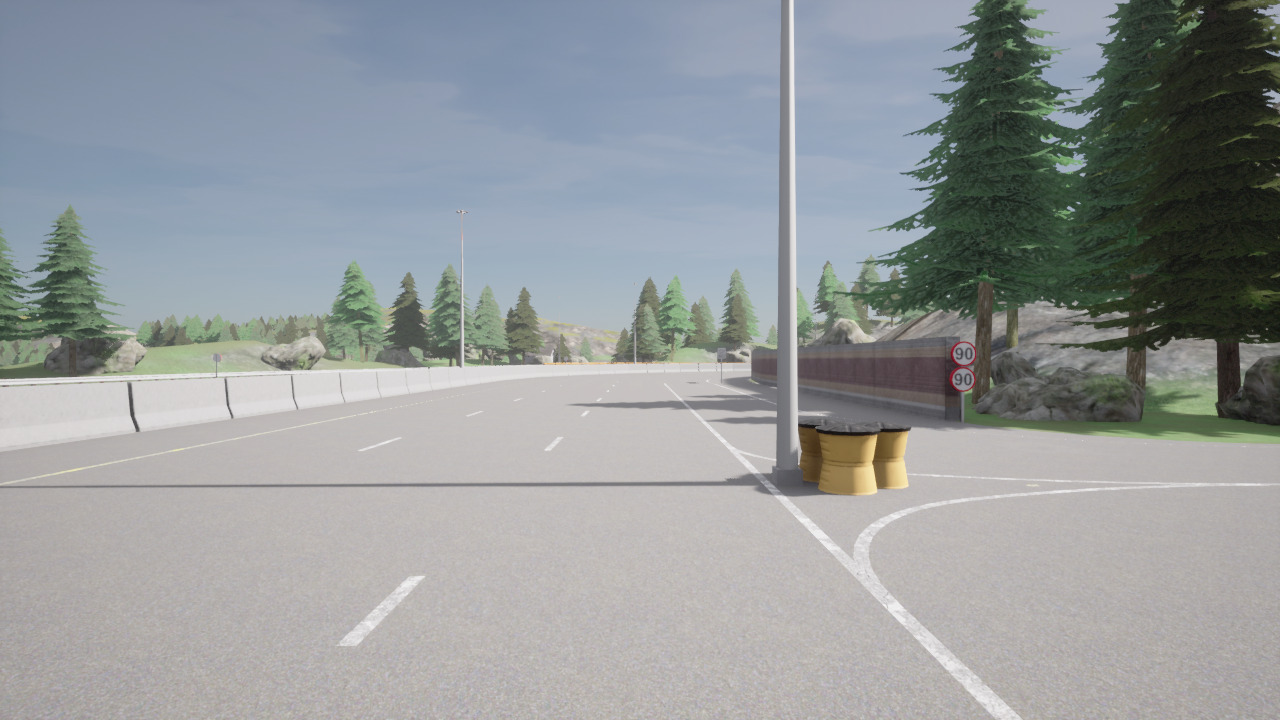sl90: (948, 366, 977, 393), (950, 341, 977, 366)
